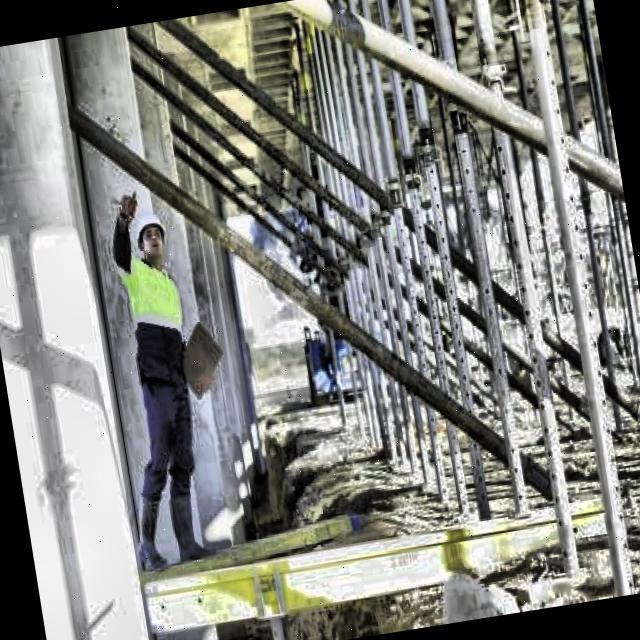helmet: (128, 198, 176, 275)
